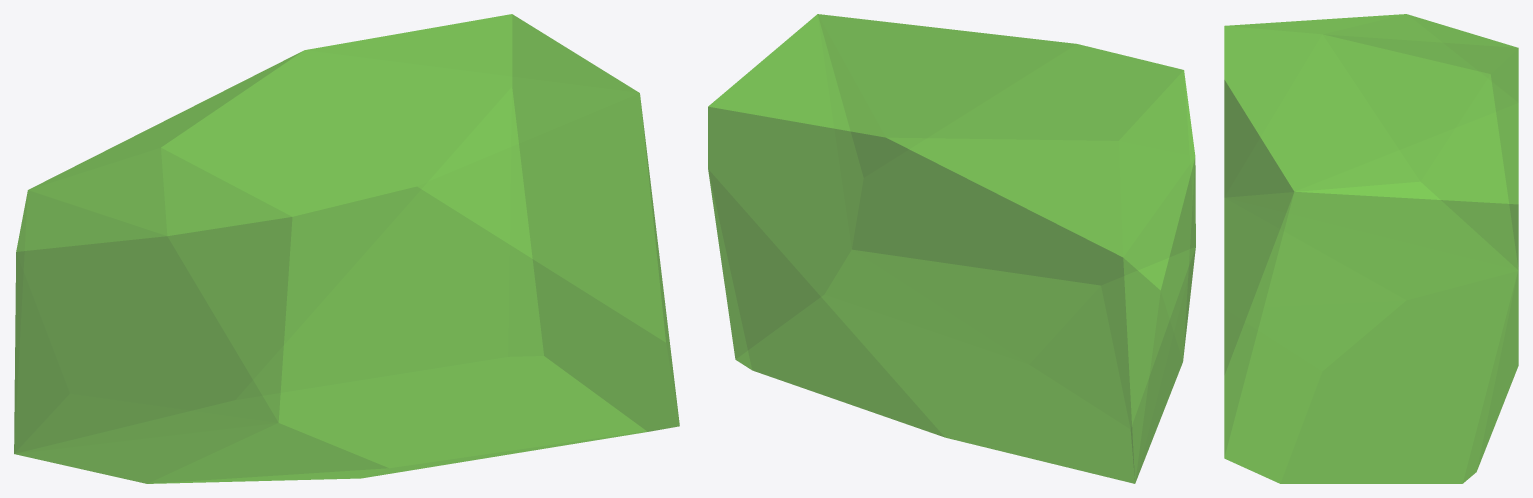
3 renders of one model, left to right at view 1: azimuth 30°, elevation 25°; view 2: azimuth 150°, elevation 25°; view 3: azimuth 270°, elevation 25°, orthographic. The views are drawn at different scales.
Parts seen in each view (by area): view 1: Shape_IndexedFaceSet.116_Shape_IndexedFaceSet.4670; view 2: Shape_IndexedFaceSet.116_Shape_IndexedFaceSet.4670; view 3: Shape_IndexedFaceSet.116_Shape_IndexedFaceSet.4670.
Part boxes in pixels (box(x1,y1,x2,y2)): Shape_IndexedFaceSet.116_Shape_IndexedFaceSet.4670: box(14, 14, 679, 483); Shape_IndexedFaceSet.116_Shape_IndexedFaceSet.4670: box(708, 14, 1195, 483); Shape_IndexedFaceSet.116_Shape_IndexedFaceSet.4670: box(1224, 14, 1518, 483).
Size of the model in its own units: 0.0562 by 0.0349 by 0.0319.
